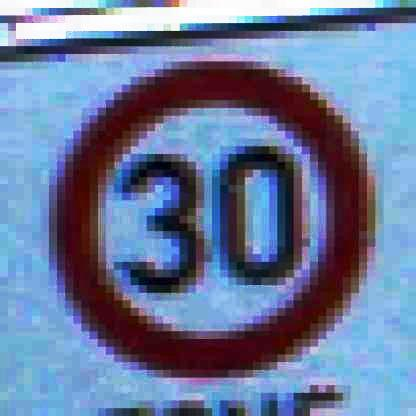Speed Limit -30-: (46, 56, 381, 385)
